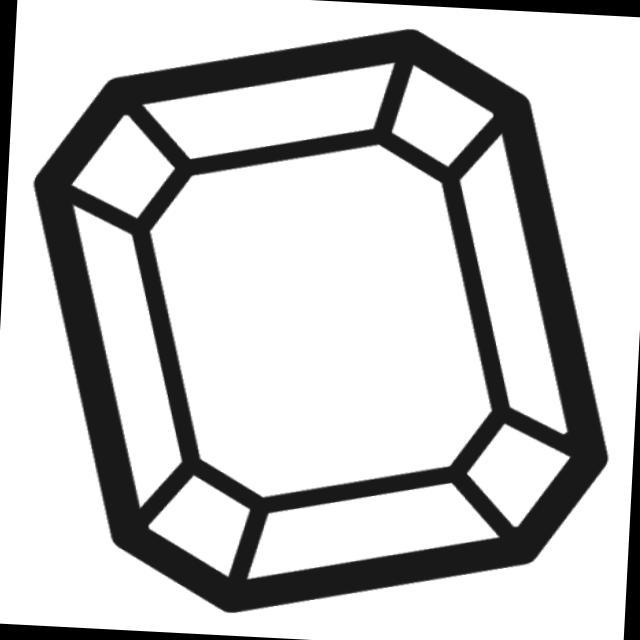emerald: (7, 6, 640, 640)
